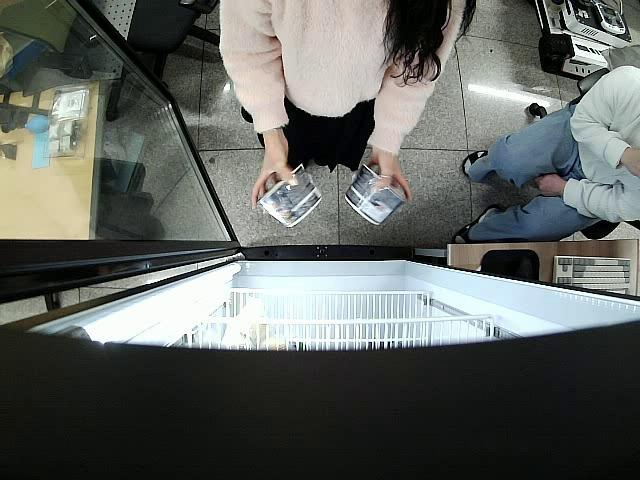07_buldak_L: (343, 161, 405, 225), (261, 164, 322, 226)
